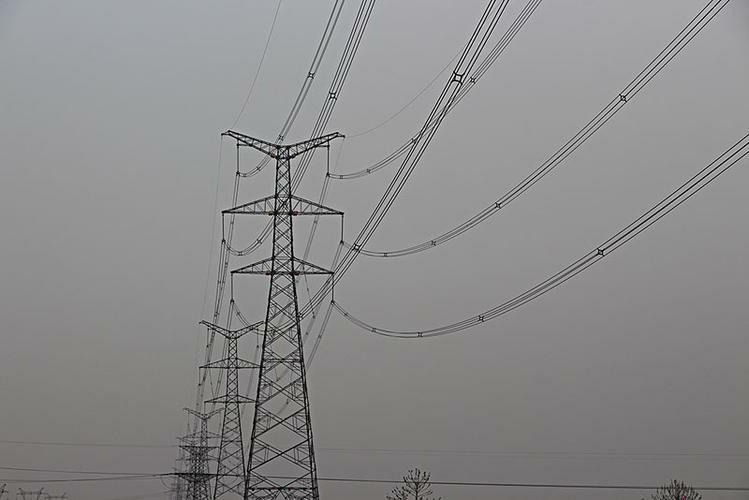power_tower: (211, 121, 367, 496), (203, 310, 264, 496), (178, 398, 224, 500)
